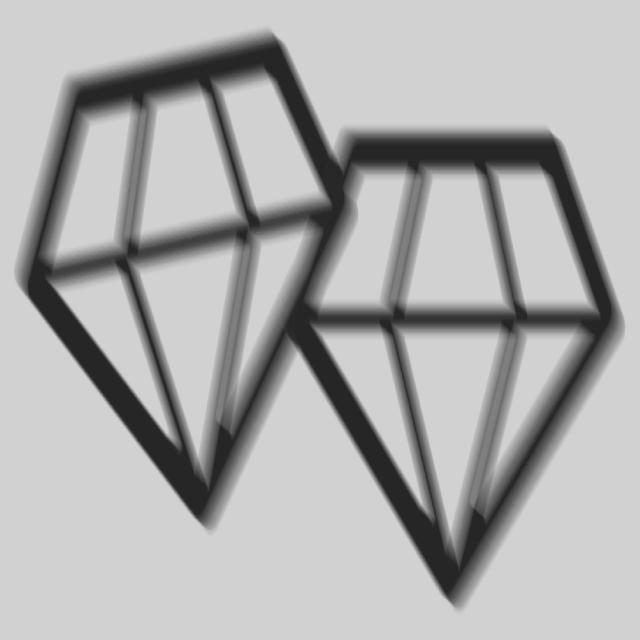diamond: (11, 25, 366, 543), (276, 115, 634, 624)
